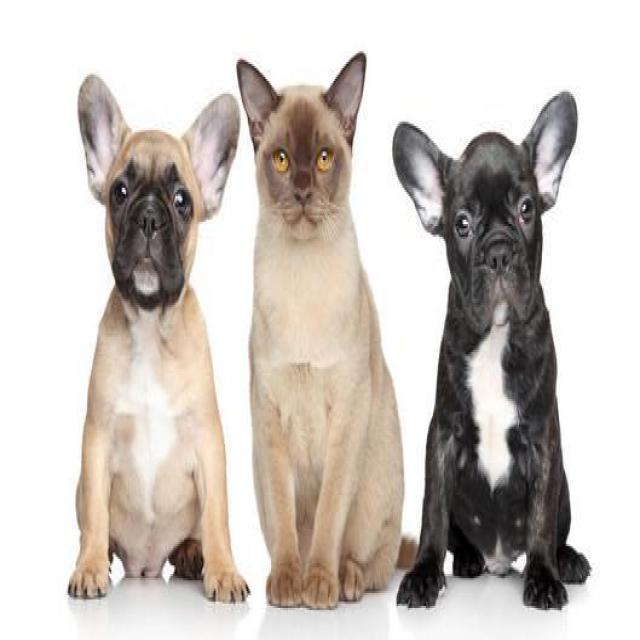cat: (225, 43, 376, 291)
dog: (385, 72, 599, 368), (60, 56, 242, 334)
